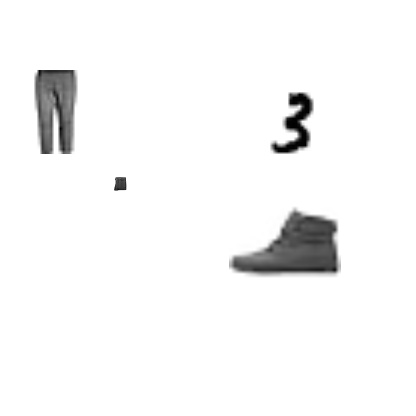3: (253, 81, 337, 165)
Bag: (113, 177, 127, 191)
Sneaker: (229, 184, 341, 296)
Trouser: (14, 70, 98, 154)
